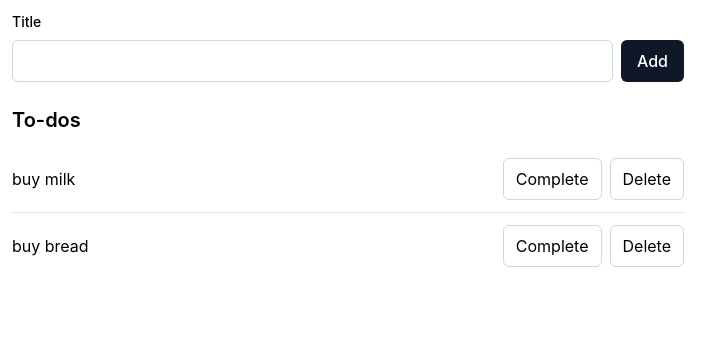
it: TodoItem › shows the row error and re-enables controls after Complete server failure
This screenshot has width=701, height=340.
Click the button with aria-label "Complete buy milk" at x=552, y=179, box [503,158,602,200]
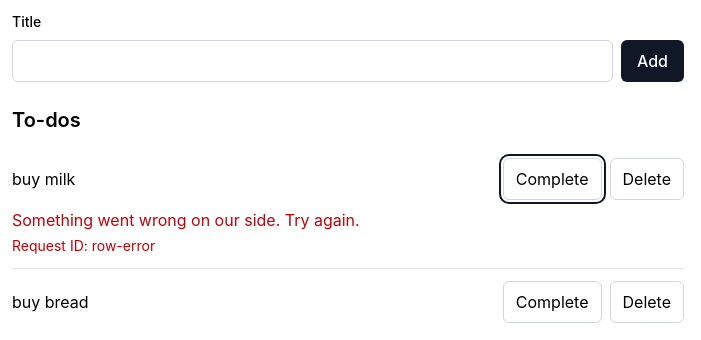
Expected: the message does not show "Private diagnostic detail", [12,210,360,254]
Result: the message shows "Something went wrong on our side. Try again." at [12,210,360,230]
Result: the message shows "Request ID: row-error" at [12,210,360,254]
